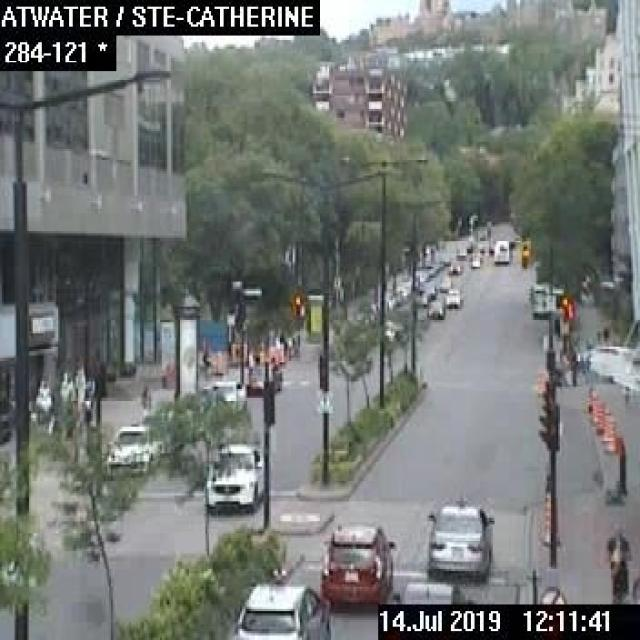bus: (492, 238, 510, 262)
construction: (538, 486, 551, 544), (602, 408, 610, 438), (606, 422, 614, 451), (595, 402, 601, 432)
pedestrian: (602, 524, 629, 602)
vehicle: (235, 568, 328, 638), (319, 522, 394, 603), (426, 492, 493, 578), (200, 440, 262, 511), (103, 422, 158, 471), (393, 579, 466, 604), (202, 378, 245, 407), (244, 362, 281, 395), (444, 287, 462, 307), (426, 300, 444, 318), (448, 260, 461, 273), (438, 276, 450, 290)
